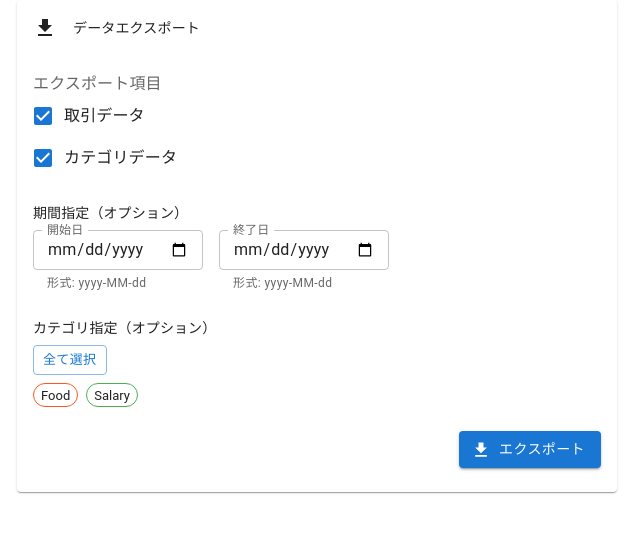
Test: DataExport › should select/deselect all categories
Click the button "全て選択". click: click(70, 360)
box: x1=33 y1=345 x2=106 y2=375
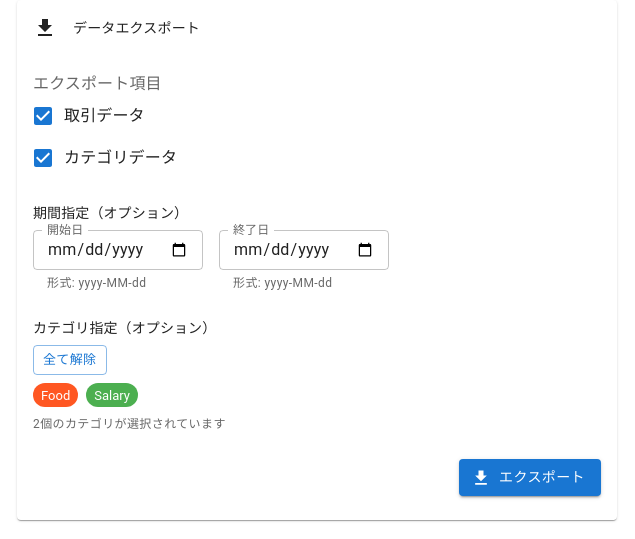
expect the text "2個のカテゴリが選択されています" is shown: met, box x1=33 y1=417 x2=226 y2=431
expect the button "全て解除" is shown: met
Click the button "全て解除". click: click(70, 360)
box: x1=33 y1=345 x2=106 y2=375
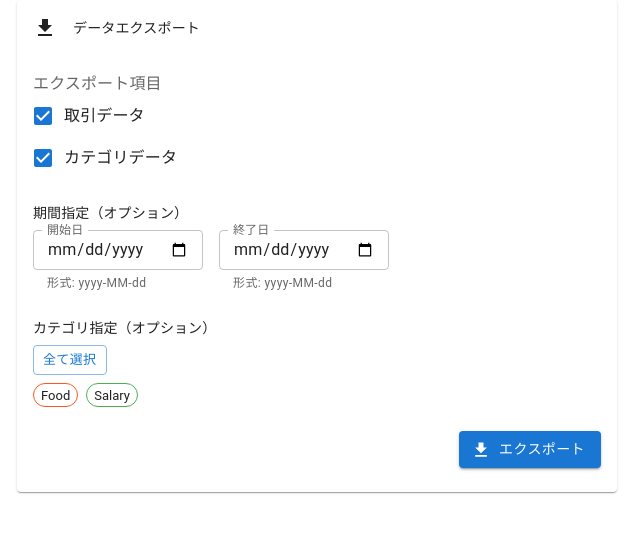
expect the text "個のカテゴリが選択されています" is gone: met
